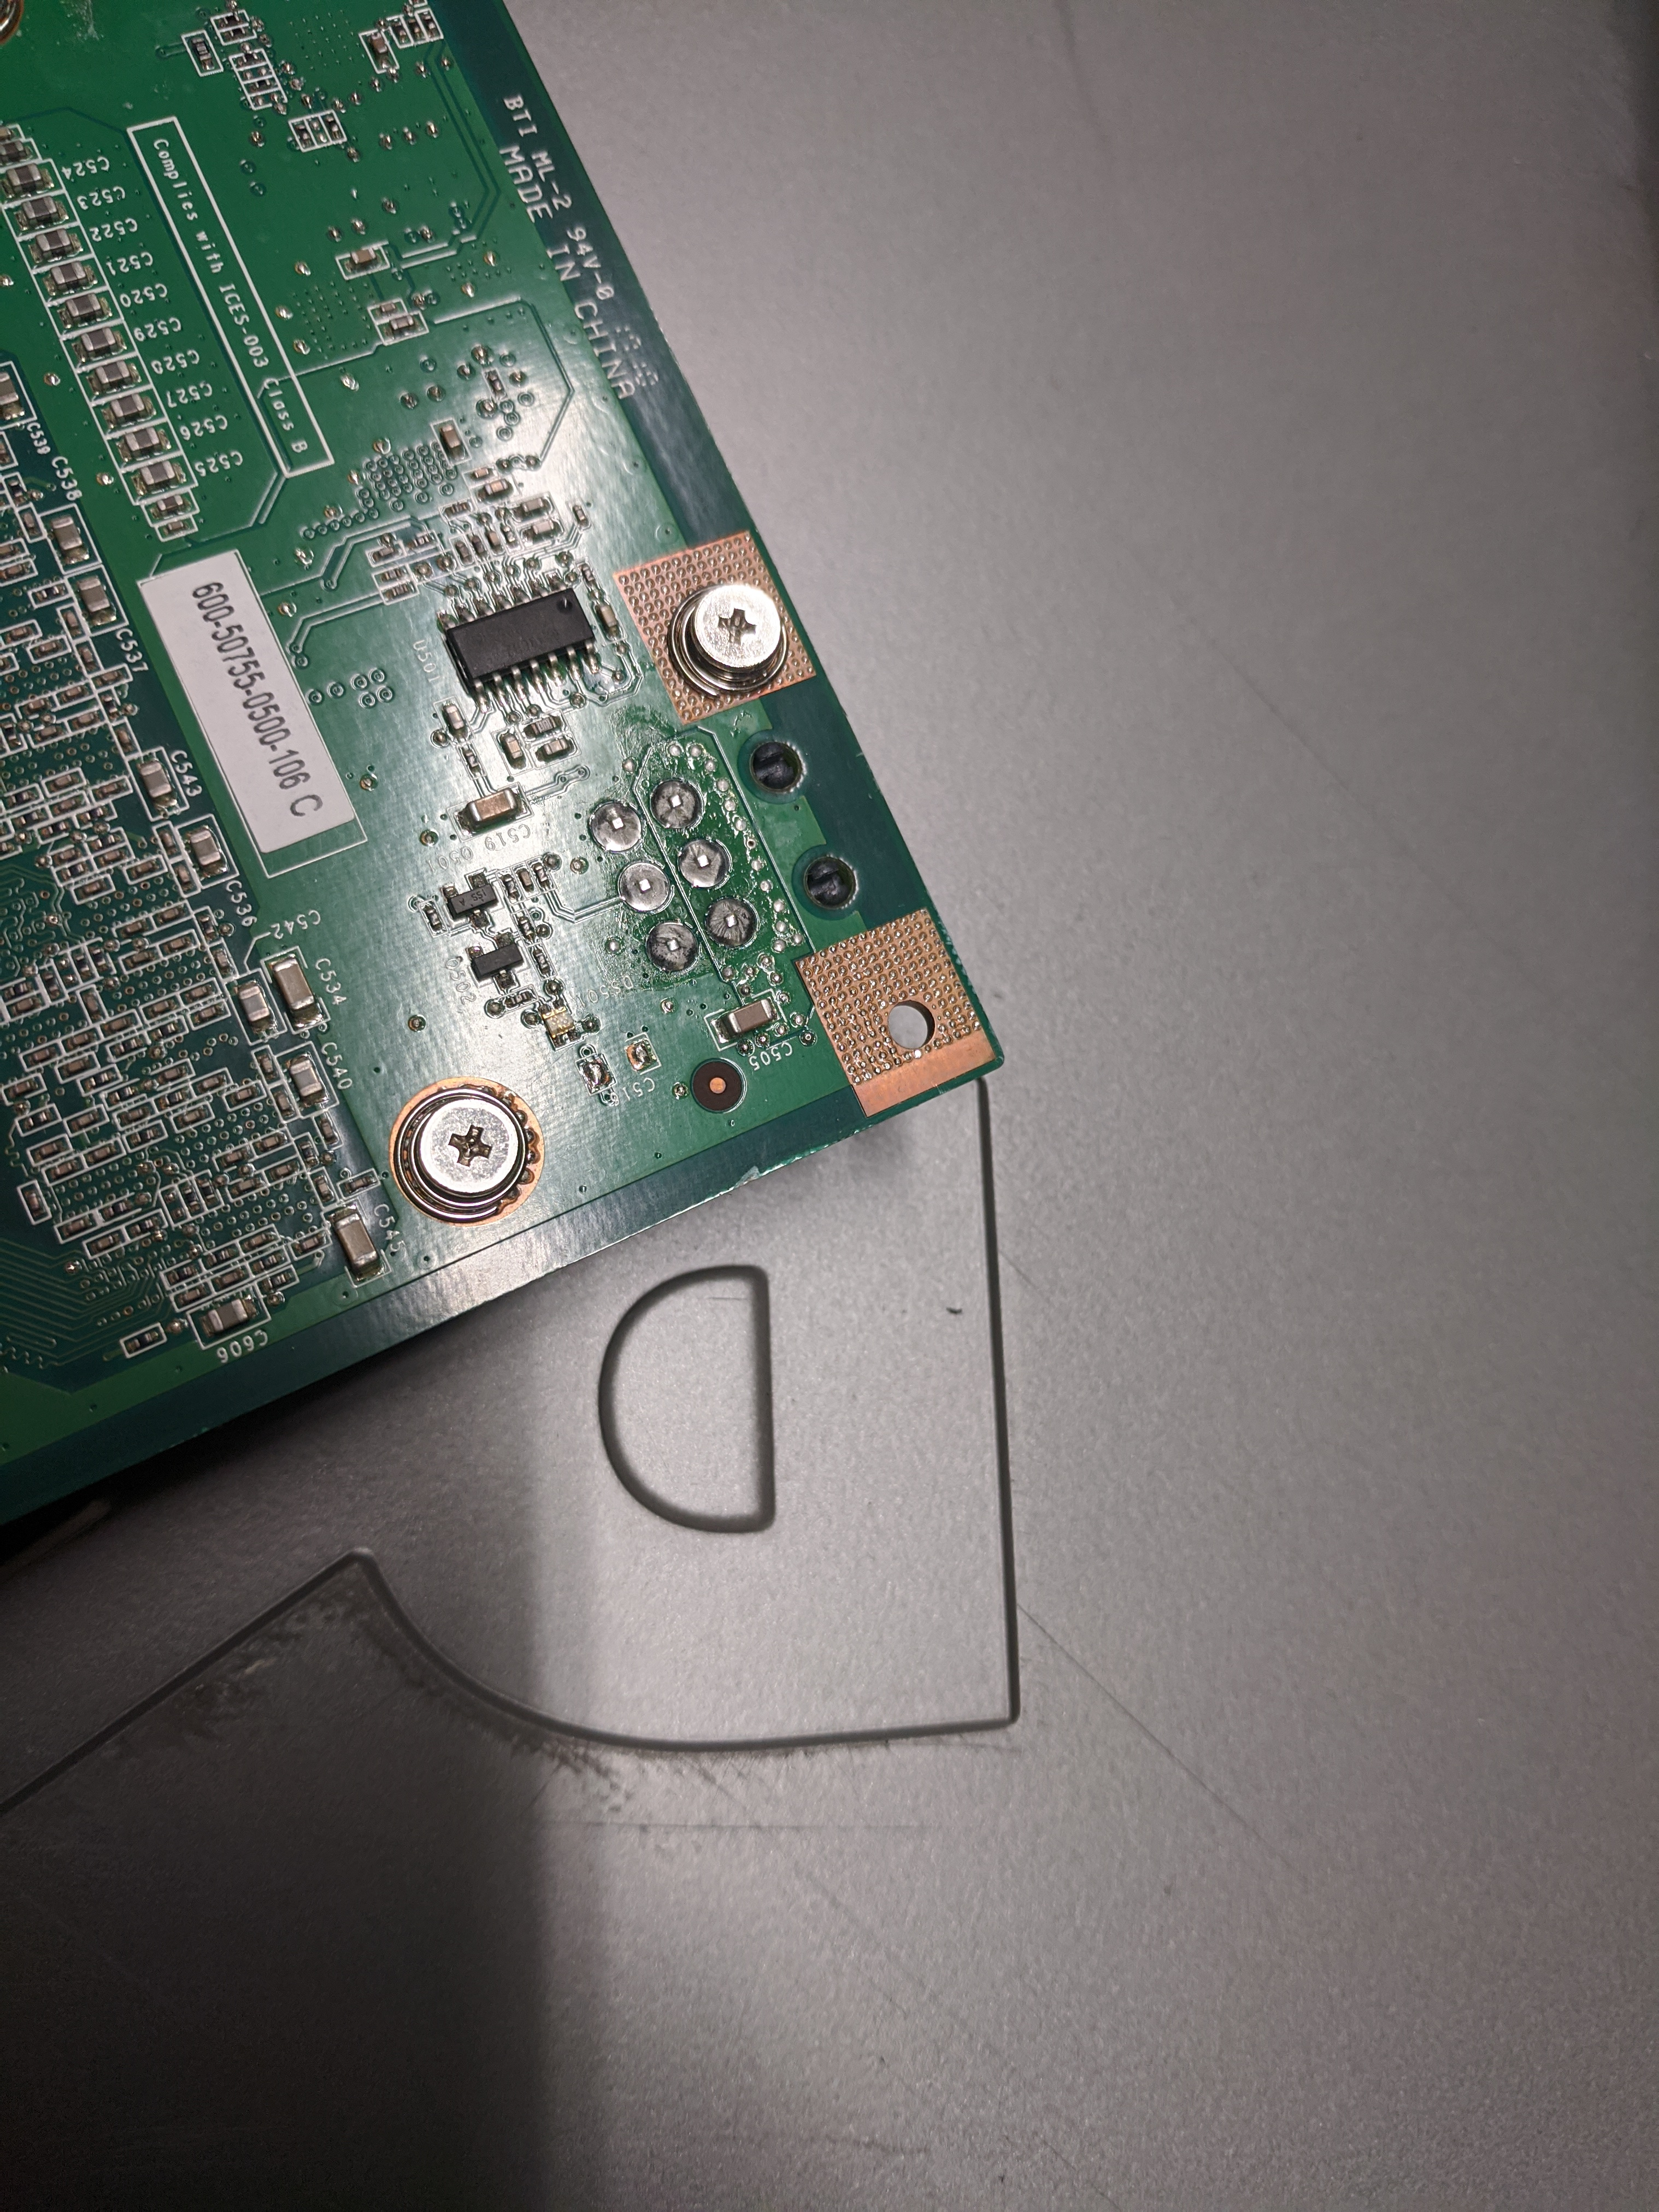cross_recessed_screw: (687, 568, 784, 664), (418, 1092, 512, 1190)
